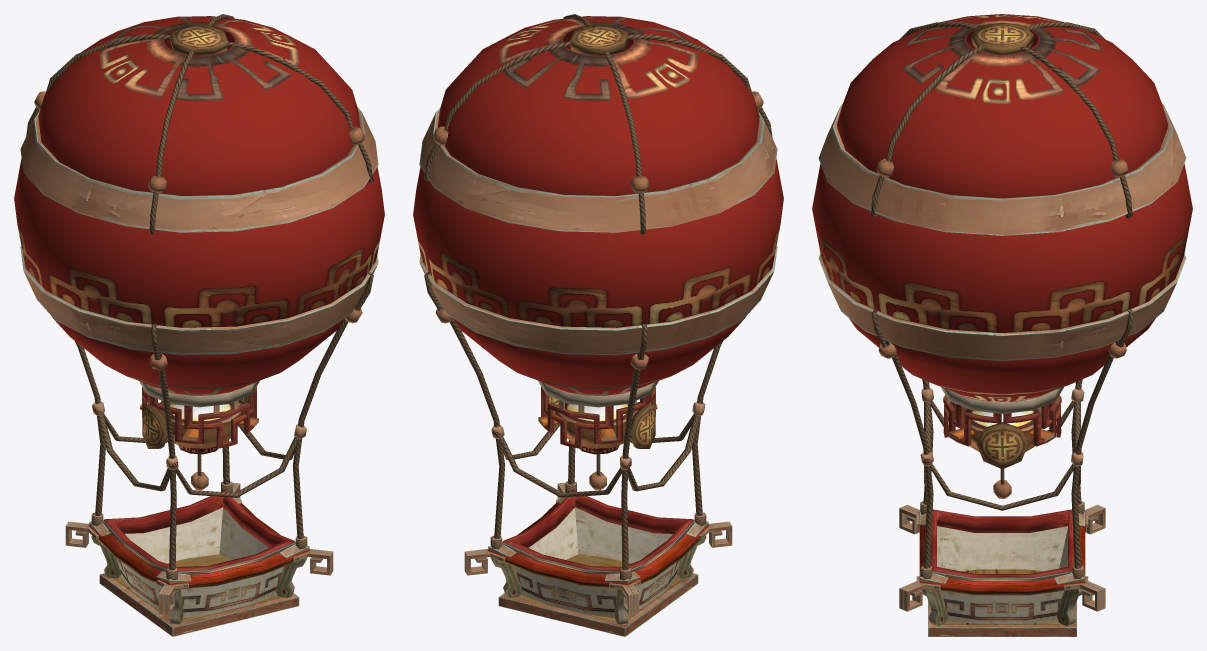
File: pandaren_style_hot_air_balloon.glb
3 views of the same model, side by side, from view 1: azimuth 30°, elevation 25°; view 2: azimuth 150°, elevation 25°; view 3: azimuth 270°, elevation 25° (orthographic). The views are drawn at different scales.
Visible parts, largest first — view 1: Object_3, Object_2; view 2: Object_3, Object_2; view 3: Object_3, Object_2.
Boxes of the visible parts, <box> form: Object_3: <box>14,16,384,395</box>; Object_2: <box>26,14,373,636</box>; Object_3: <box>413,16,783,395</box>; Object_2: <box>424,14,772,636</box>; Object_3: <box>812,14,1192,402</box>; Object_2: <box>870,22,1133,636</box>.
Size of the model in its own units: 8.54 by 14.1 by 8.54.
Materials: 2 (2 with a texture image).
